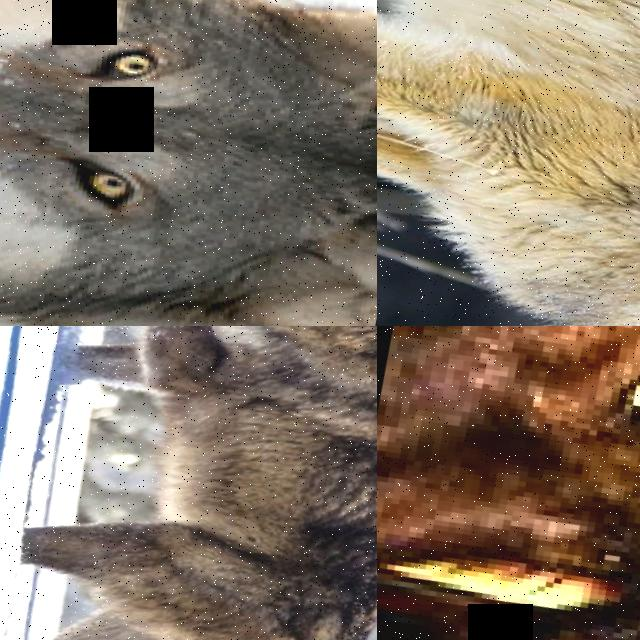wolf: (0, 0, 377, 326), (0, 326, 377, 640), (377, 0, 640, 326), (377, 326, 640, 640), (377, 443, 640, 640)
